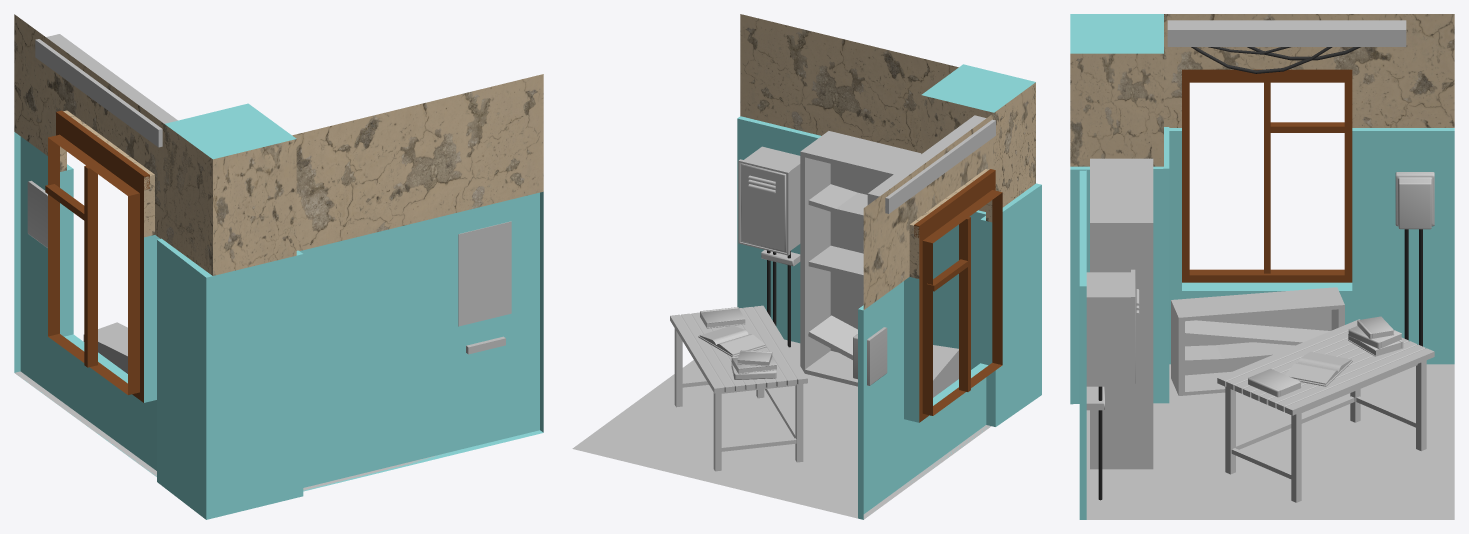
File: Sketchfab Place .fbx
3 views of the same model, side by side, from view 1: azimuth 30°, elevation 25°; view 2: azimuth 150°, elevation 25°; view 3: azimuth 270°, elevation 25° (orthographic). The views are drawn at different scales.
Parts seen in each view (by area): view 1: Cube.055, Cube.004, Cube.001, Cube.005, Cube.003; view 2: Cube.055, Cube.002, Cube, Cube.004, Cube.001, Cube.005, Cube.007, Cube.008, Cube.003, Cube.006; view 3: Cube.055, Cube.002, Cube.003, Cube, Cube.001, Cube.004, Cube.005, Cube.007, Cube.008, Cube.006.
Boxes of the visible parts, <box> form: Cube.055: <box>14,14,543,519</box>; Cube.004: <box>458,221,511,354</box>; Cube.001: <box>35,34,177,147</box>; Cube.005: <box>27,180,47,247</box>; Cube.003: <box>83,322,127,373</box>; Cube.055: <box>572,14,1041,519</box>; Cube.002: <box>800,131,921,386</box>; Cube: <box>670,305,807,471</box>; Cube.004: <box>738,146,800,347</box>; Cube.001: <box>867,115,995,213</box>; Cube.005: <box>853,327,887,385</box>; Cube.007: <box>731,350,776,379</box>; Cube.008: <box>698,325,766,356</box>; Cube.003: <box>933,345,958,397</box>; Cube.006: <box>700,307,745,328</box>; Cube.055: <box>1070,14,1454,519</box>; Cube.002: <box>1090,158,1153,469</box>; Cube.003: <box>1171,287,1344,395</box>; Cube: <box>1217,319,1434,502</box>; Cube.001: <box>1167,20,1406,73</box>; Cube.004: <box>1086,269,1139,500</box>; Cube.005: <box>1395,172,1434,346</box>; Cube.007: <box>1348,316,1403,356</box>; Cube.008: <box>1285,351,1352,386</box>; Cube.006: <box>1248,368,1301,397</box>.
Size of the model in its own units: 667 by 639 by 636.
